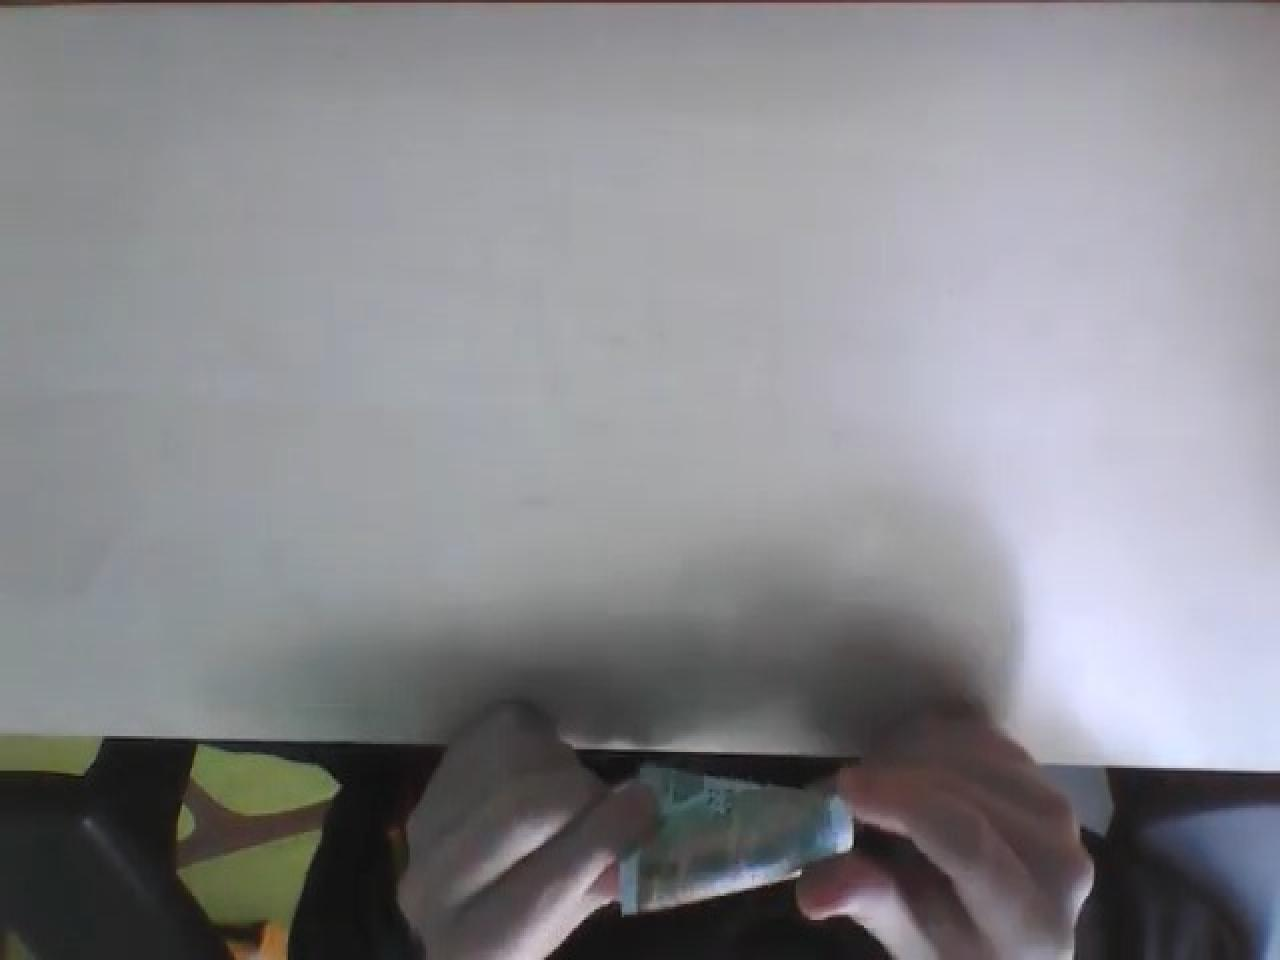100leva: (614, 757, 858, 920)
